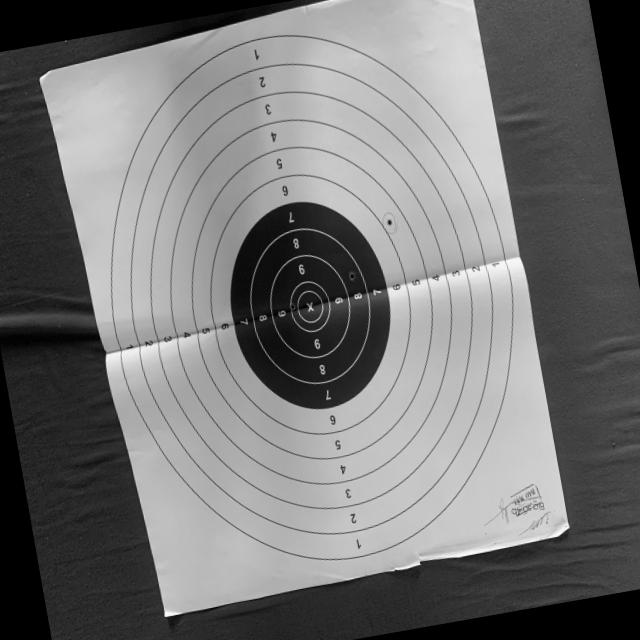bullet: (348, 270, 356, 277), (290, 302, 295, 310), (388, 218, 392, 226)
target: (46, 0, 567, 613)
